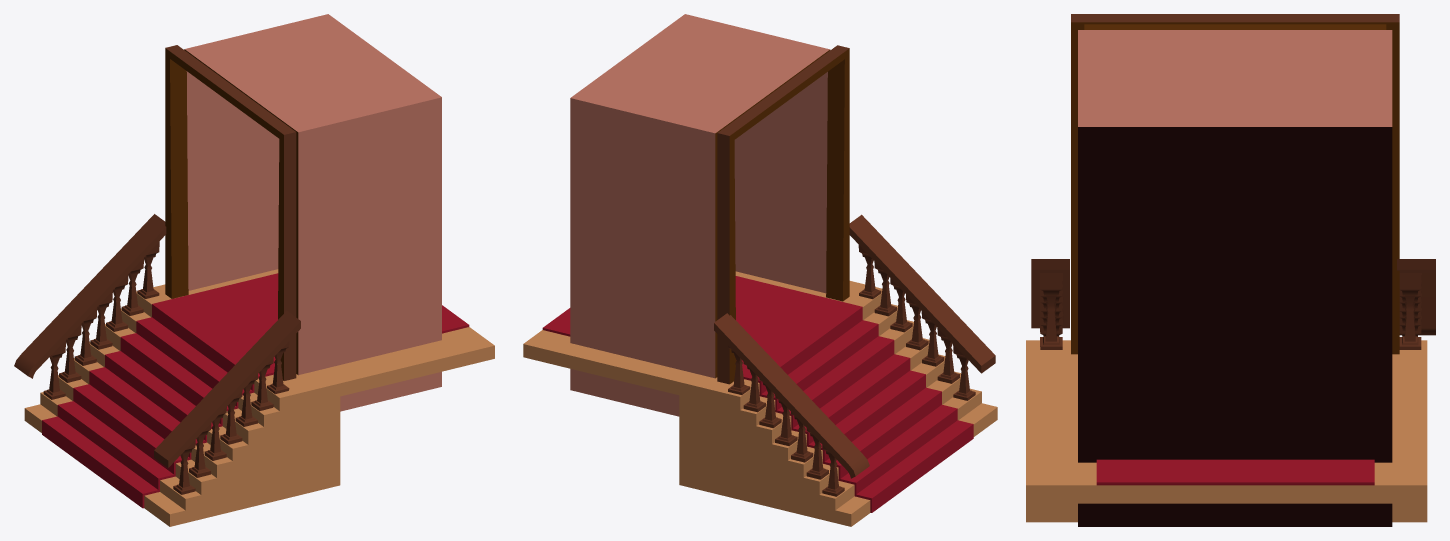
Rendered from SM_Etage.fbx.
3 renders of one model, left to right at view 1: azimuth 30°, elevation 25°; view 2: azimuth 150°, elevation 25°; view 3: azimuth 270°, elevation 25°, orthographic. The views are drawn at different scales.
Visible parts, largest first — view 1: pCube108; view 2: pCube108; view 3: pCube108.
Boxes of the visible parts, bbox=[...] form: pCube108: bbox=[14, 14, 494, 526]; pCube108: bbox=[523, 14, 997, 526]; pCube108: bbox=[1026, 14, 1435, 526].
Size of the model in its own units: 70.3 by 70.35 by 54.28.
